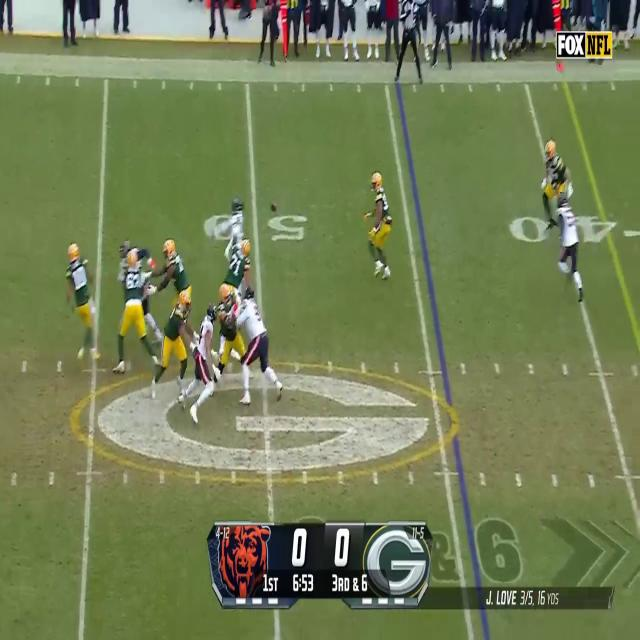Player: (155, 288, 191, 406), (238, 286, 269, 404), (67, 243, 96, 363), (118, 250, 144, 372), (191, 302, 217, 424), (556, 195, 584, 306), (540, 140, 574, 221), (367, 171, 391, 283), (218, 283, 242, 392), (222, 237, 251, 299), (162, 236, 187, 295)
Referee: (394, 0, 423, 84)
